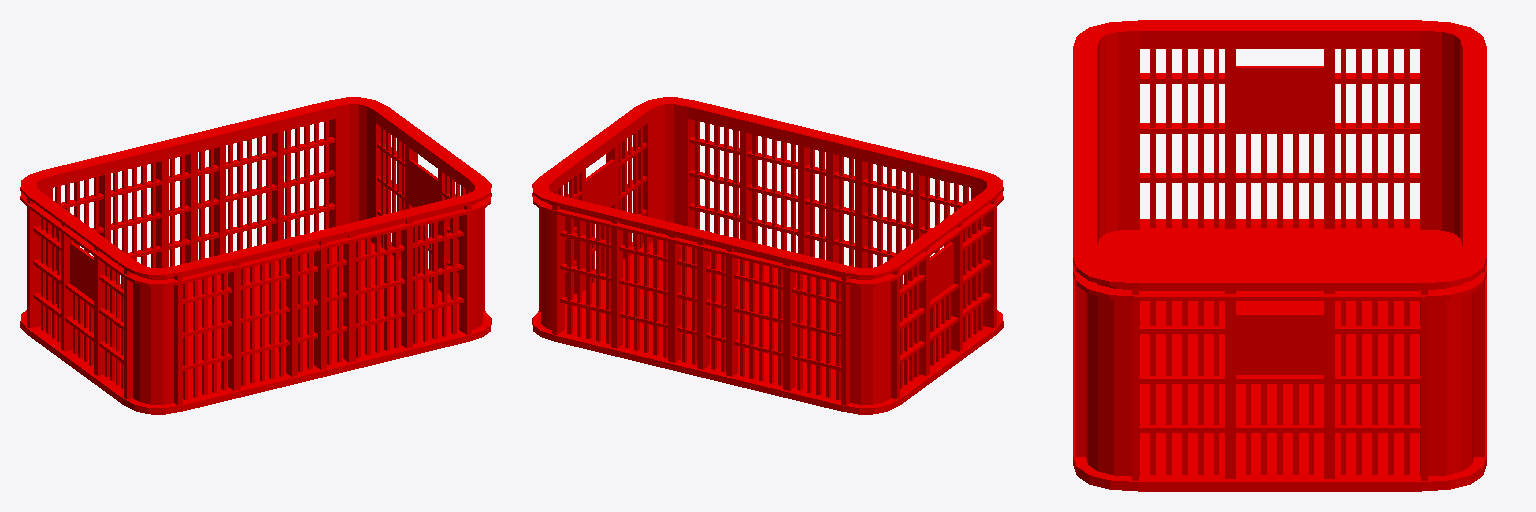
The robot description file, URDF, robot "box.urdf":
<?xml version="0.0" ?>
<robot name="box.urdf">
  <link name="baseLink">
    <contact>
      <lateral_friction value="1.0"/>
    </contact>
    <inertial>
      <origin rpy="0 0 0" xyz="0 0 0"/>
       <mass value=".0"/>
       <inertia ixx="1" ixy="0" ixz="0" iyy="1" iyz="0" izz="1"/>
    </inertial>
    <visual>
      <origin rpy="0 0 0" xyz="0 0 0"/>
      <geometry>
		<mesh filename="boite/box.obj" scale=".015 .015 .015"/>
      </geometry>
       <material name="white">
        <color rgba="1 0 0 1"/>
      </material>
    </visual>
    <collision>
      <origin rpy="0 0 0" xyz="0 0 0"/>
      <geometry>
	 	<mesh filename="boite/Boite1.obj" scale=".02 .02 .02"/>
      </geometry>
    </collision>
  </link>
</robot>


--- What the picture shows (computed from the rendered views, not written in the file) ---
Views: 3 orthographic renders of the robot side by side, from view 1: azimuth 30°, elevation 25°; view 2: azimuth 150°, elevation 25°; view 3: azimuth 270°, elevation 25°.
Robot: box.urdf — 1 links, 0 joints (none); root link baseLink; default pose: every joint at zero.
Visible links, largest first — view 1: baseLink; view 2: baseLink; view 3: baseLink.
Link boxes in pixels (bbox=[...]): baseLink: bbox=[20, 97, 491, 414]; baseLink: bbox=[532, 97, 1003, 414]; baseLink: bbox=[1073, 20, 1486, 491].
Bounding box of the posed robot: 1.8 × 1.2 × 0.6644 m (x, y, z).
1 mesh visuals loaded from 1 distinct referenced files (1 OBJ).